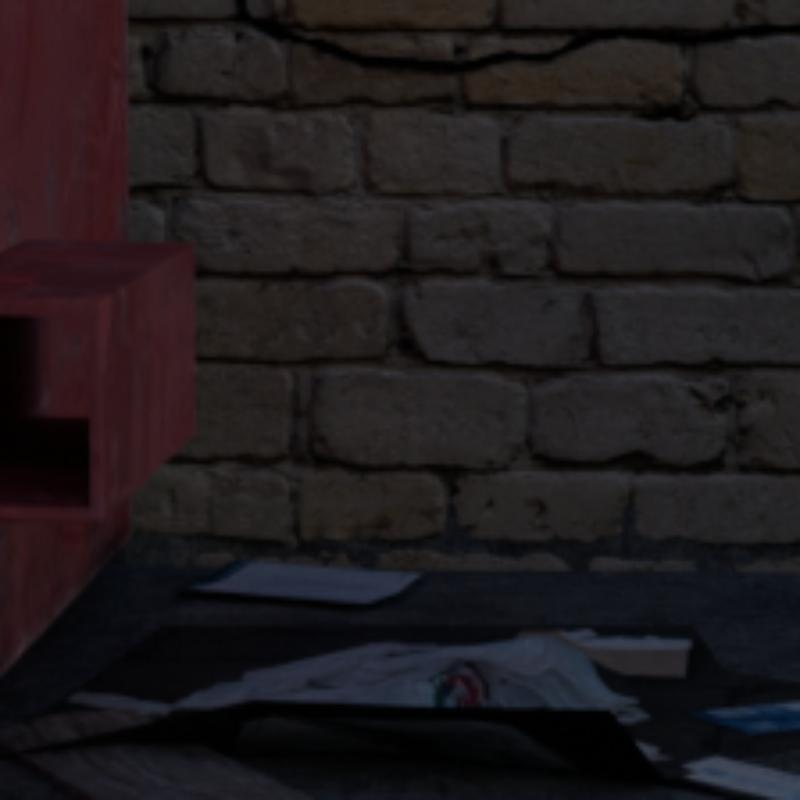pothole: (236, 0, 796, 71)
